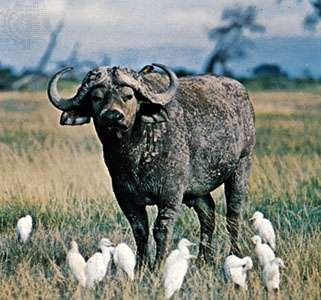buffalo: (46, 59, 258, 276)
